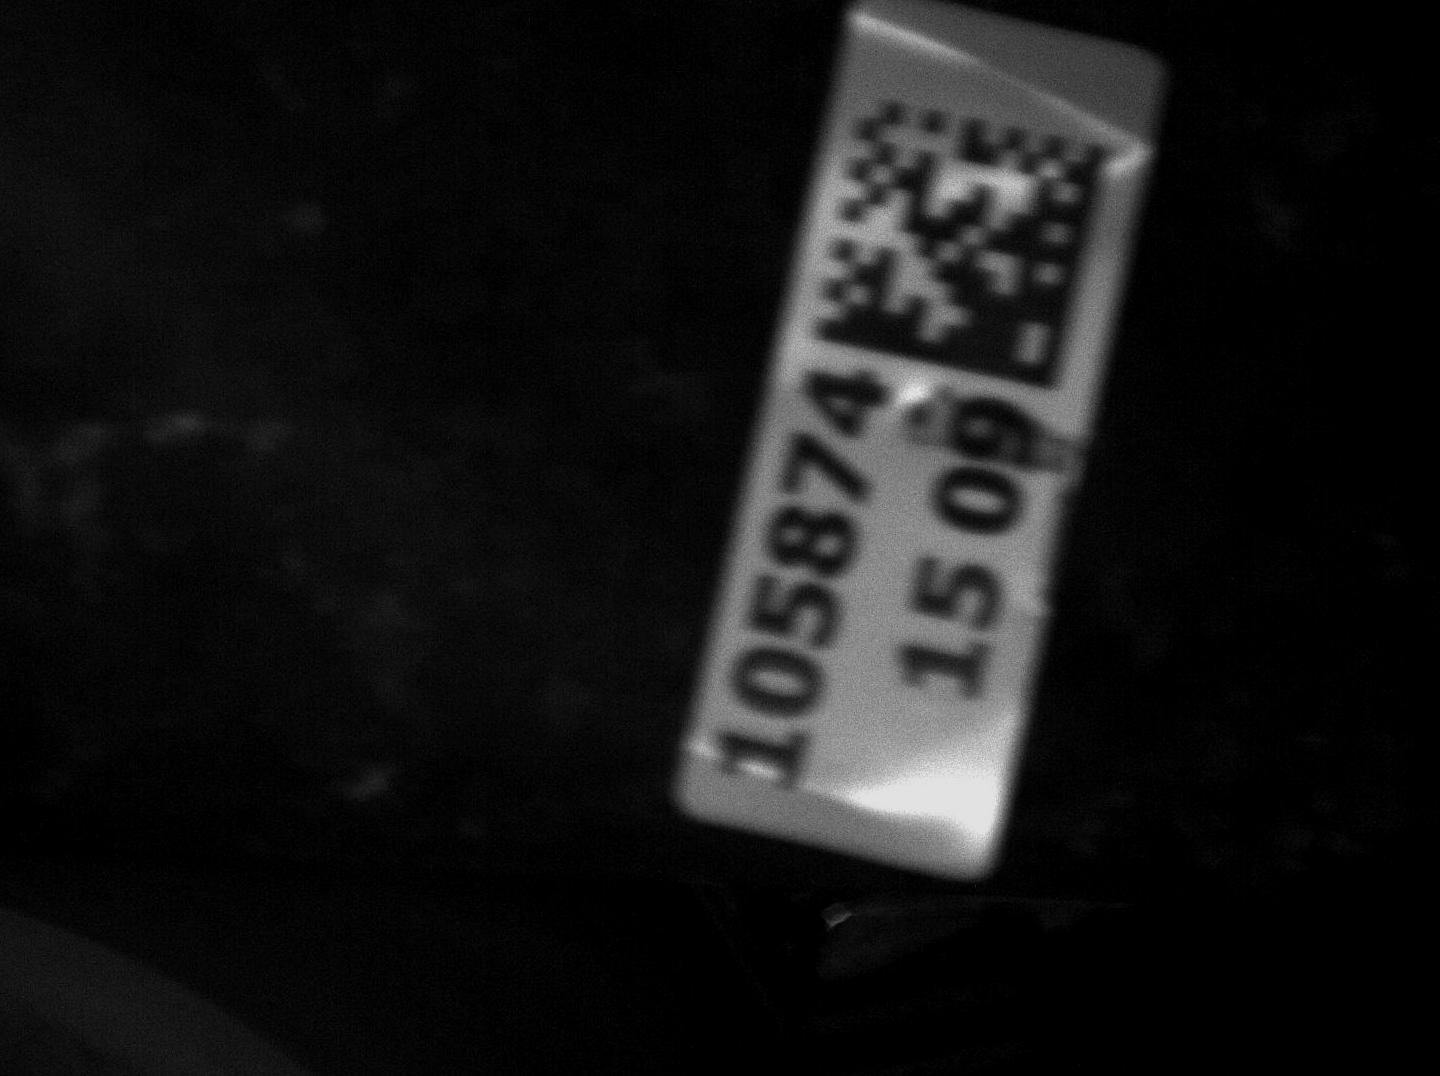data matrix: (789, 79, 1120, 401)
